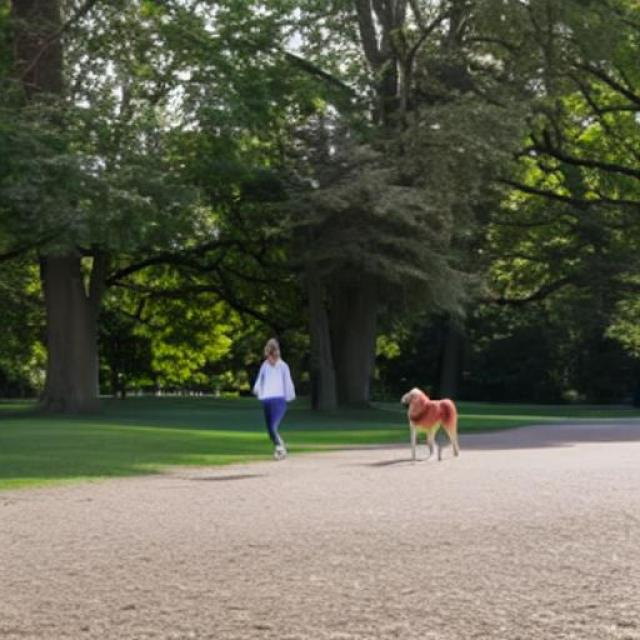Unleashed_Dog: (265, 388, 461, 462)
